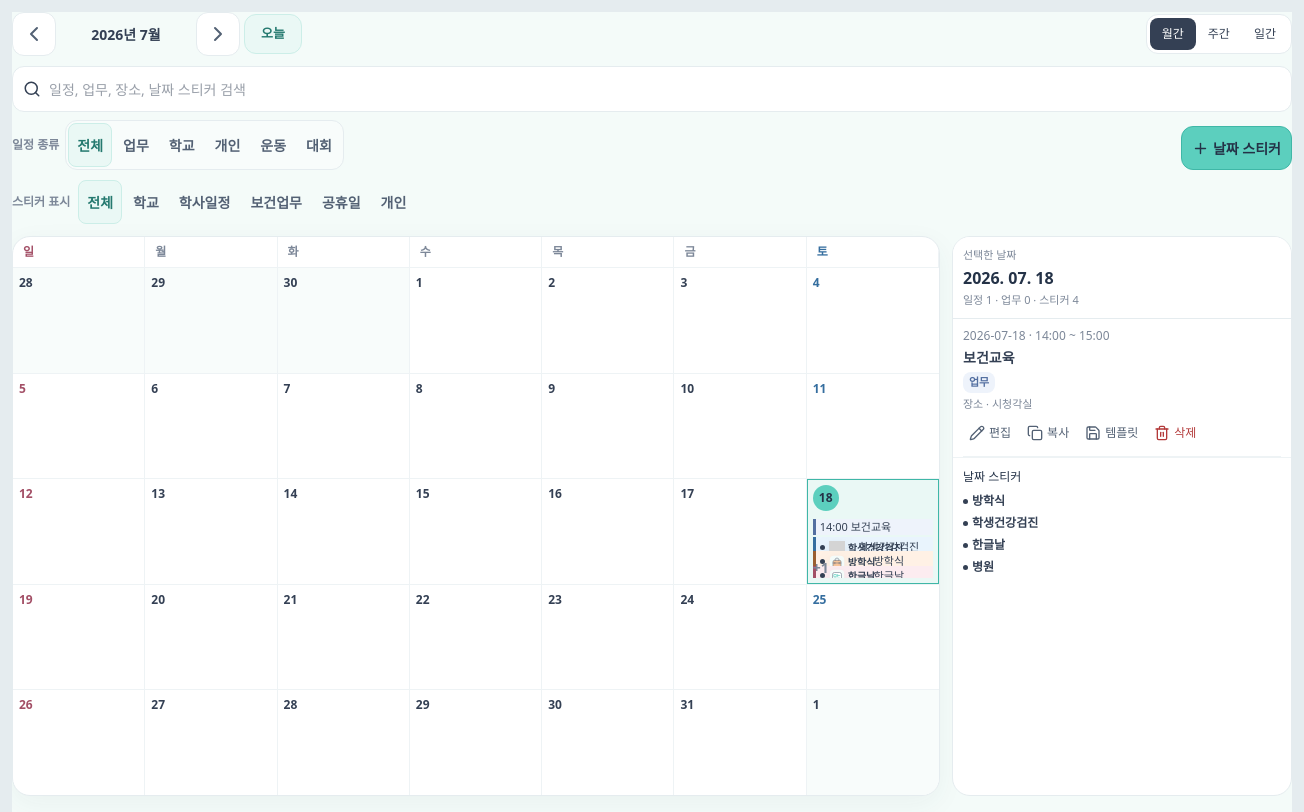
Test: CalendarWorkspace › filters holiday stickers without mutating the entry filter
Click the button "업무" at (136, 145), box [114,123,158,167]
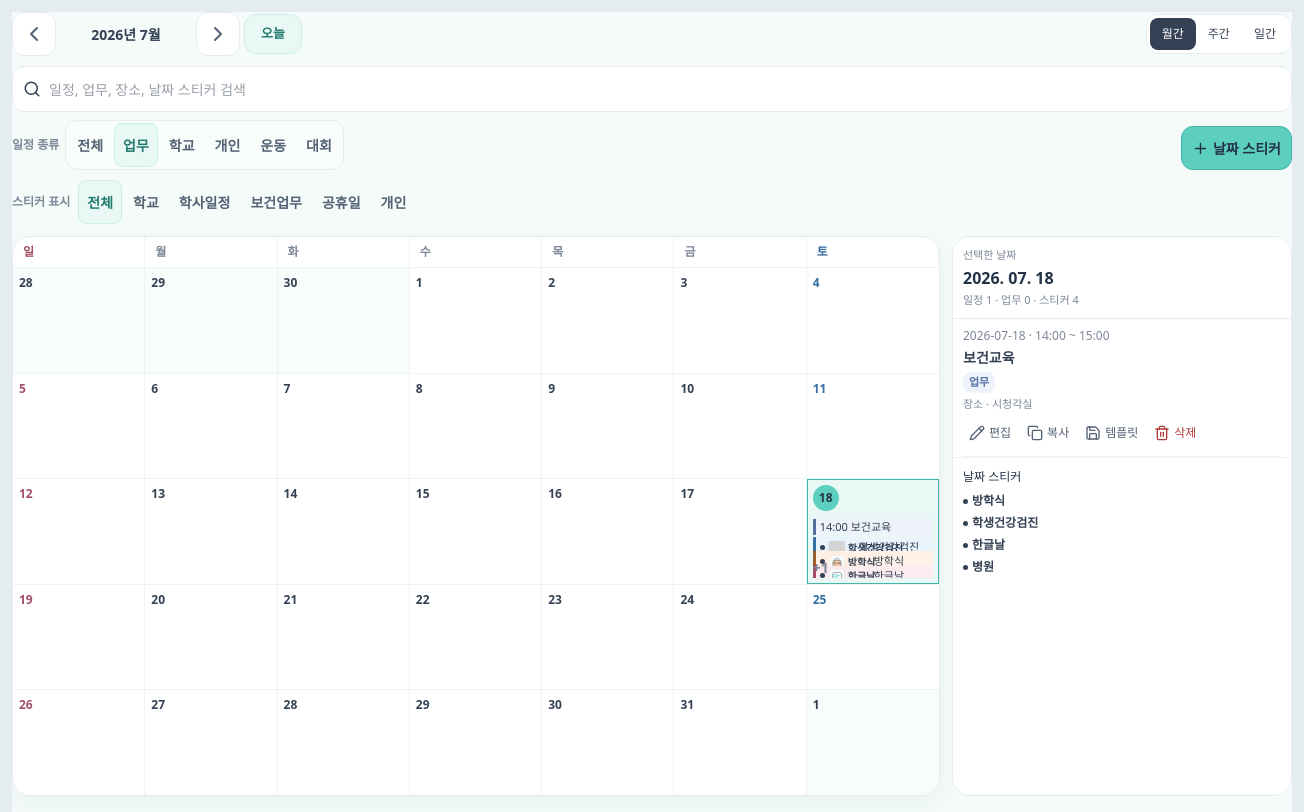
Click the button "공휴일" at (341, 202), box [313,180,370,224]
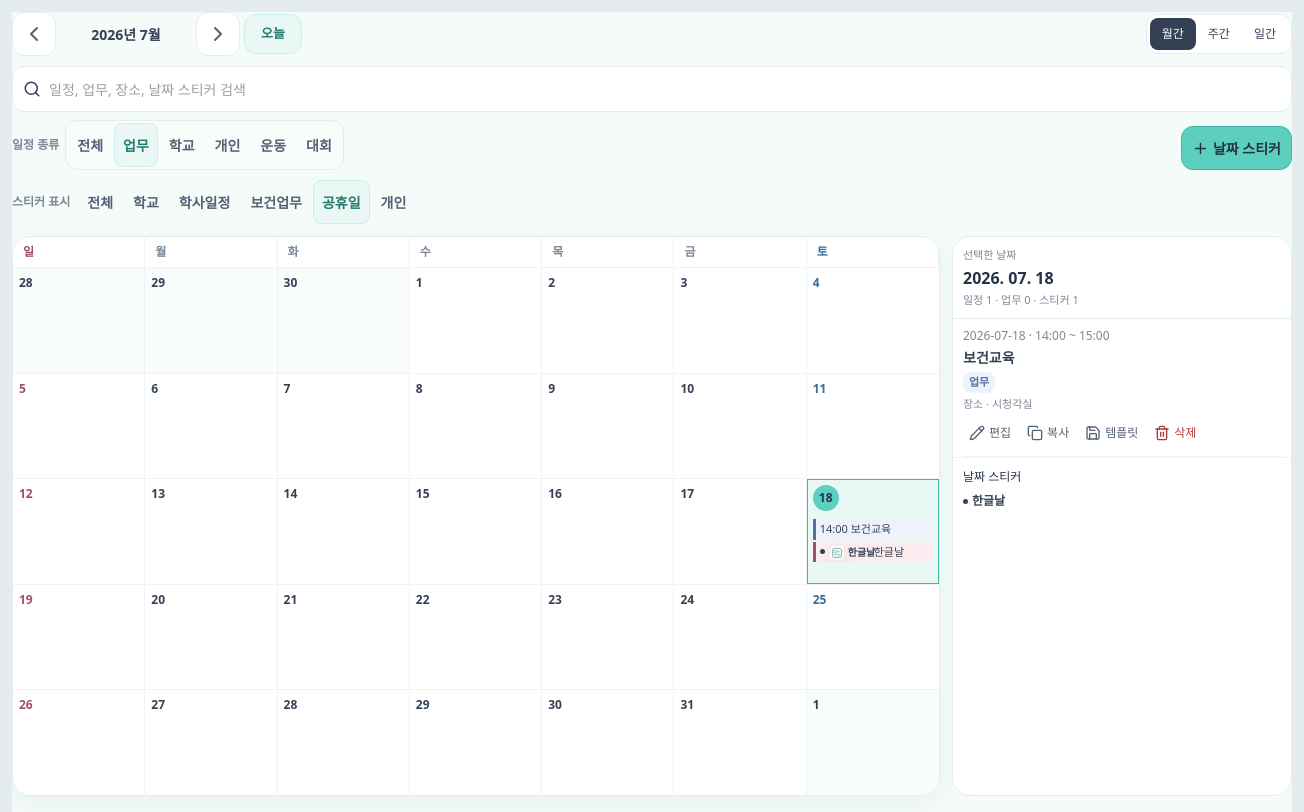
Expected: the cell named "2026-07-18" no longer shows "방학식", [807,478,939,584]
Expected: the cell named "2026-07-18" no longer shows "학생건강검진", [807,478,939,584]
Expected: the cell named "2026-07-18" no longer shows "병원", [807,478,939,584]
